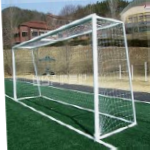goals: (10, 11, 138, 143)
